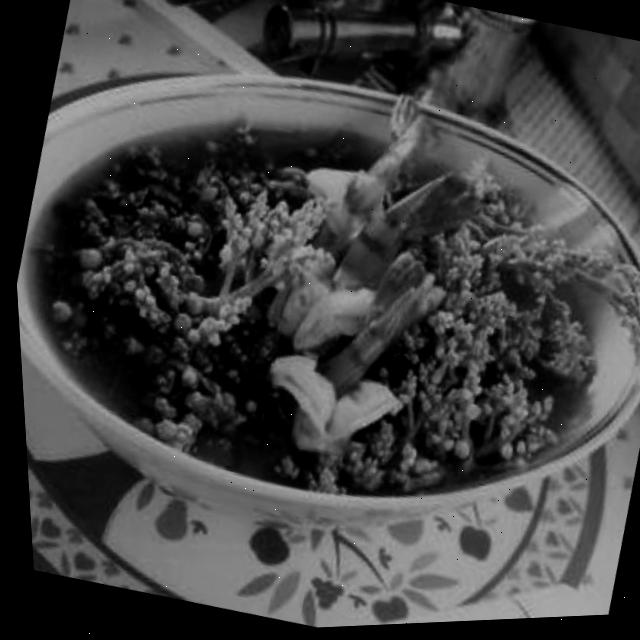汤锅炖物: (1, 9, 640, 602)
